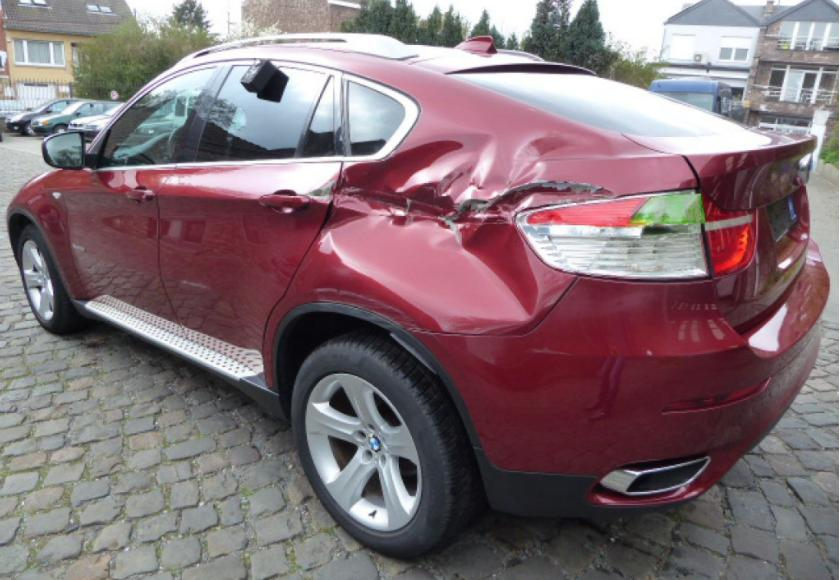Back-bumper: (272, 239, 831, 520)
Back-door: (156, 59, 345, 385)
Back-wheel: (290, 325, 487, 559)
Back-window: (196, 65, 323, 162), (348, 81, 405, 155), (302, 76, 335, 157)
Back-windshield: (447, 71, 745, 137)
Fender: (6, 168, 90, 300)
Front-door: (65, 60, 227, 342)
Front-wheel: (17, 223, 95, 335)
Front-window: (103, 67, 217, 167)
Mirror: (41, 129, 111, 170)
Quarter-panel: (262, 147, 700, 385)
Rocker-panel: (70, 299, 292, 428)
Roof: (175, 32, 545, 66)
Tail-light: (515, 190, 713, 282), (702, 190, 756, 279), (663, 378, 770, 411)
Trunk: (410, 53, 817, 335), (448, 71, 744, 137)
